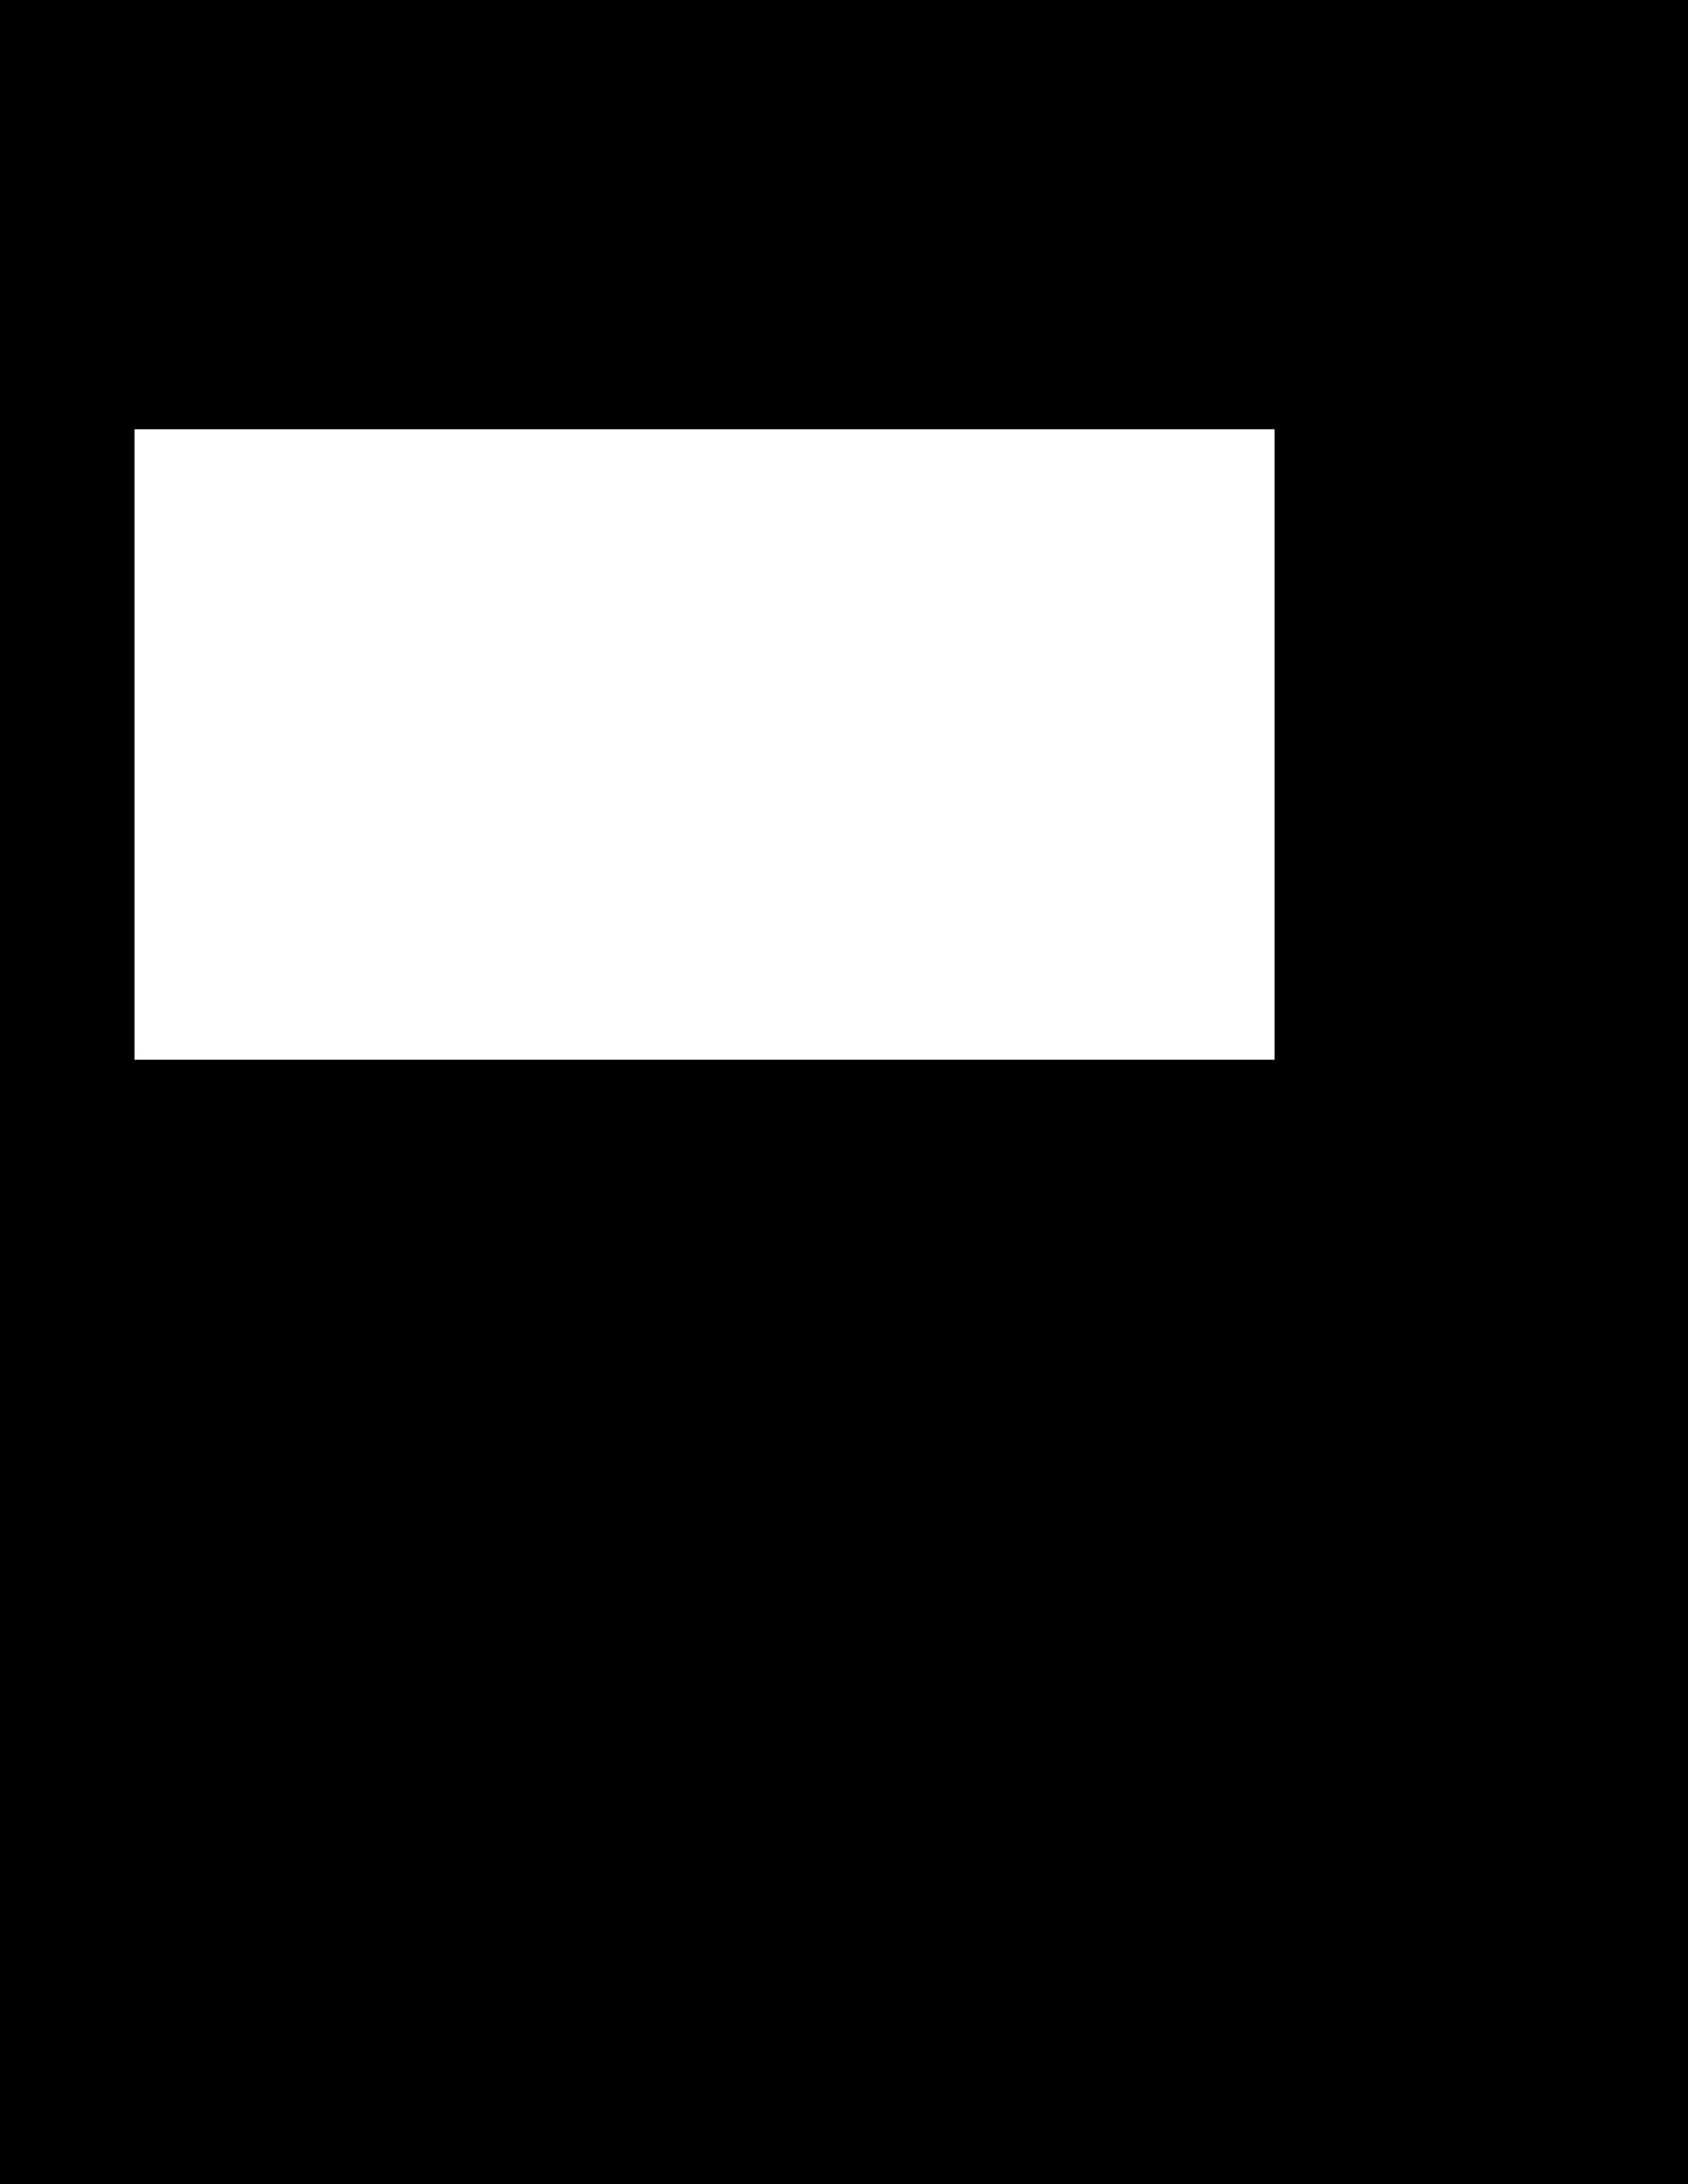table: (135, 429, 1273, 1058)
